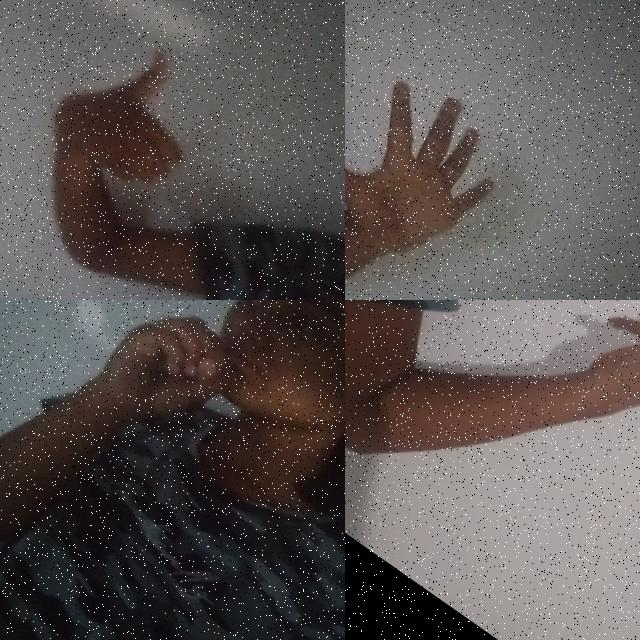Fist Mouth: (69, 300, 345, 551)
Middle Finger: (539, 300, 640, 485)
Moutza: (345, 22, 539, 300)
Thumbs Up: (3, 13, 235, 256)
